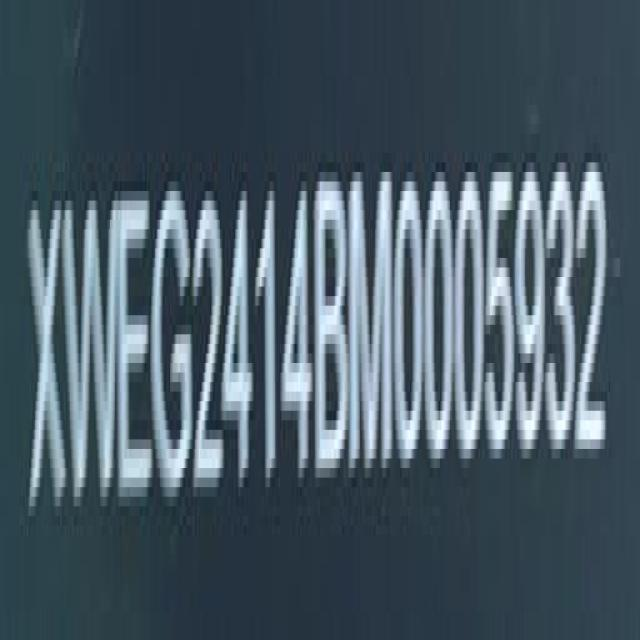0: (396, 172, 427, 474), (455, 165, 486, 466), (426, 167, 456, 471)
1: (257, 178, 280, 495)
2: (194, 185, 227, 503), (578, 159, 610, 456)
3: (546, 157, 576, 454)
4: (222, 182, 255, 499), (281, 173, 313, 491)
5: (486, 166, 514, 465)
9: (516, 165, 548, 461)
B: (315, 173, 351, 488)
E: (118, 181, 153, 512)
G: (152, 180, 194, 505)
M: (351, 163, 396, 477)
W: (65, 184, 122, 516)
X: (29, 190, 69, 522)
